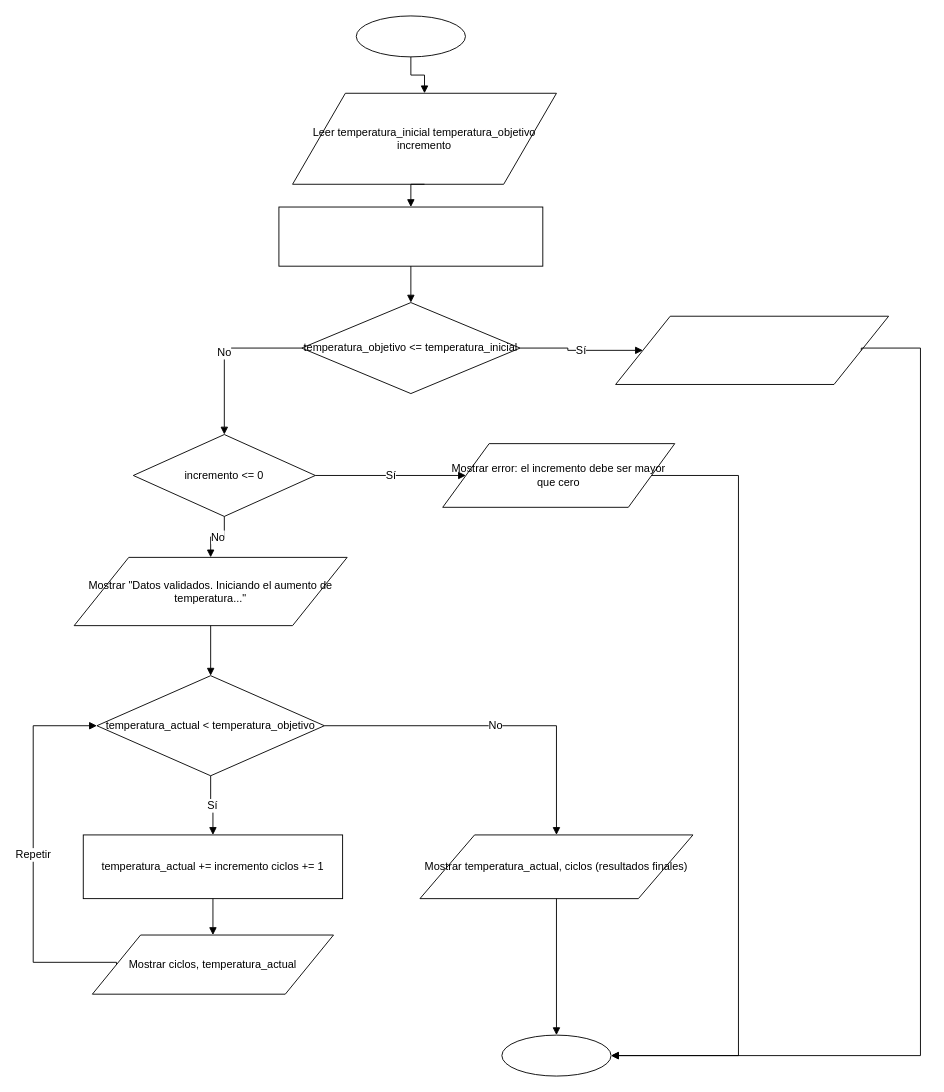
Some shapes in this 944 by 1092 pixel diagram are drawn without their labels. The centre of each missing label's shape, as x and y in pixels:
"Fin" goes at point (556, 1055).
"Inicio" goes at point (410, 36).
"Mostrar error: la temperatura objetivo debe ser mayor que la inicial" goes at point (752, 349).
"temperatura_actual = temperatura_inicial ciclos = 0" goes at point (410, 236).
